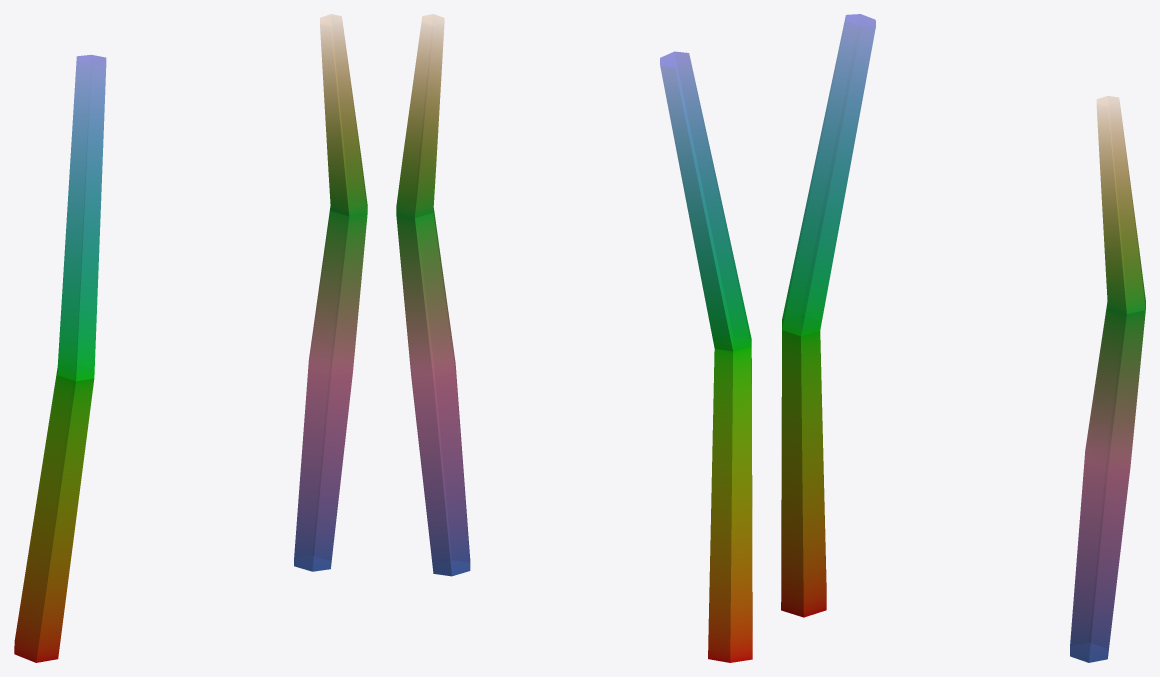
The picture shows the model from 3 angles, left to right: view 1: azimuth 30°, elevation 25°; view 2: azimuth 150°, elevation 25°; view 3: azimuth 330°, elevation 25°; orthographic projection. The views are drawn at different scales.
Parts seen in each view (by area): view 1: Imported HAIR group 0; view 2: Imported HAIR group 0; view 3: Imported HAIR group 0.
Boxes of the visible parts, x1,y1,x2,y2 form: Imported HAIR group 0: [14, 14, 367, 662]; Imported HAIR group 0: [396, 14, 752, 662]; Imported HAIR group 0: [781, 14, 1145, 662].
Size of the model in its own units: 0.9597 by 1.52 by 0.1953.
